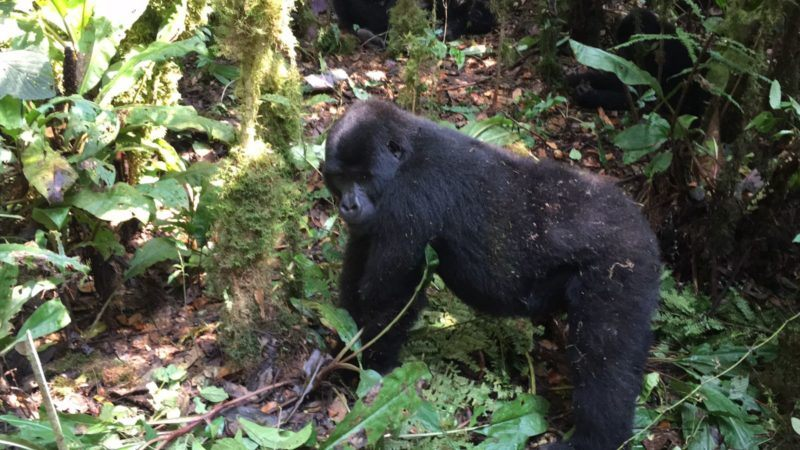Goriila: (261, 77, 718, 450)
